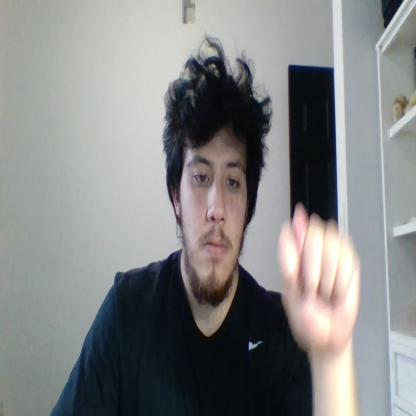T: (278, 202, 361, 354)
